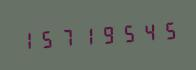five: (117, 18, 136, 47), (157, 15, 176, 44), (37, 24, 56, 52)
four: (137, 17, 156, 45)
nine: (97, 20, 116, 48)
one: (17, 25, 36, 54), (77, 21, 96, 50)
seven: (57, 22, 76, 51)
